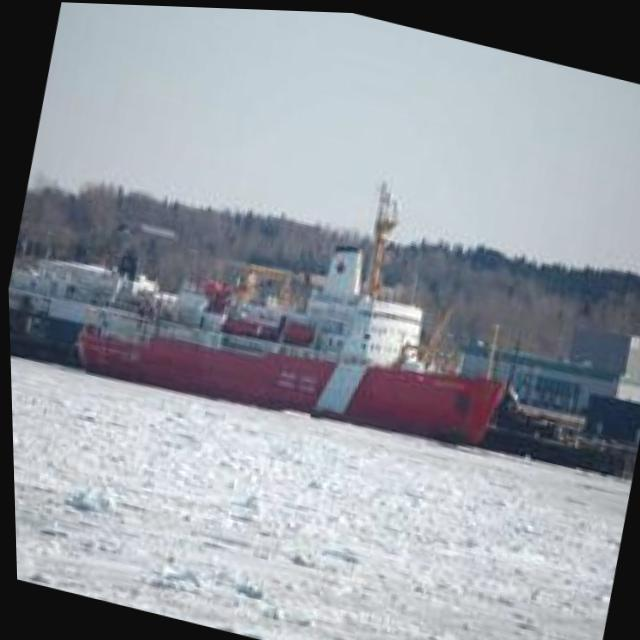ship2: (74, 177, 504, 443)
